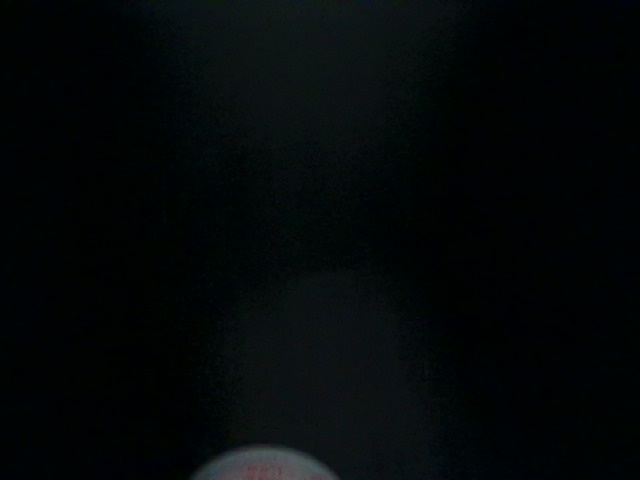CYLJ: (211, 95, 609, 368)
